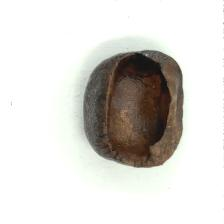NG: (100, 48, 177, 168)
